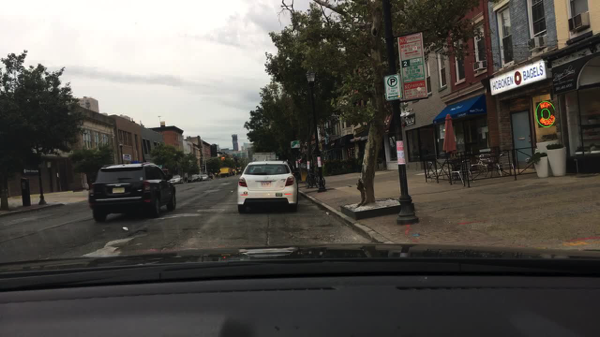bike: (302, 168, 329, 190)
car: (88, 163, 177, 221), (238, 160, 299, 212), (169, 174, 184, 184), (189, 175, 200, 181), (202, 173, 210, 181)
person: (184, 177, 188, 184)
traffic light: (221, 156, 225, 162)
traffic sign: (396, 32, 426, 100), (383, 74, 402, 102), (291, 141, 300, 148)
truck: (251, 151, 277, 166), (219, 167, 233, 178)
